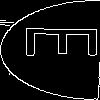E: (25, 25, 100, 59)
